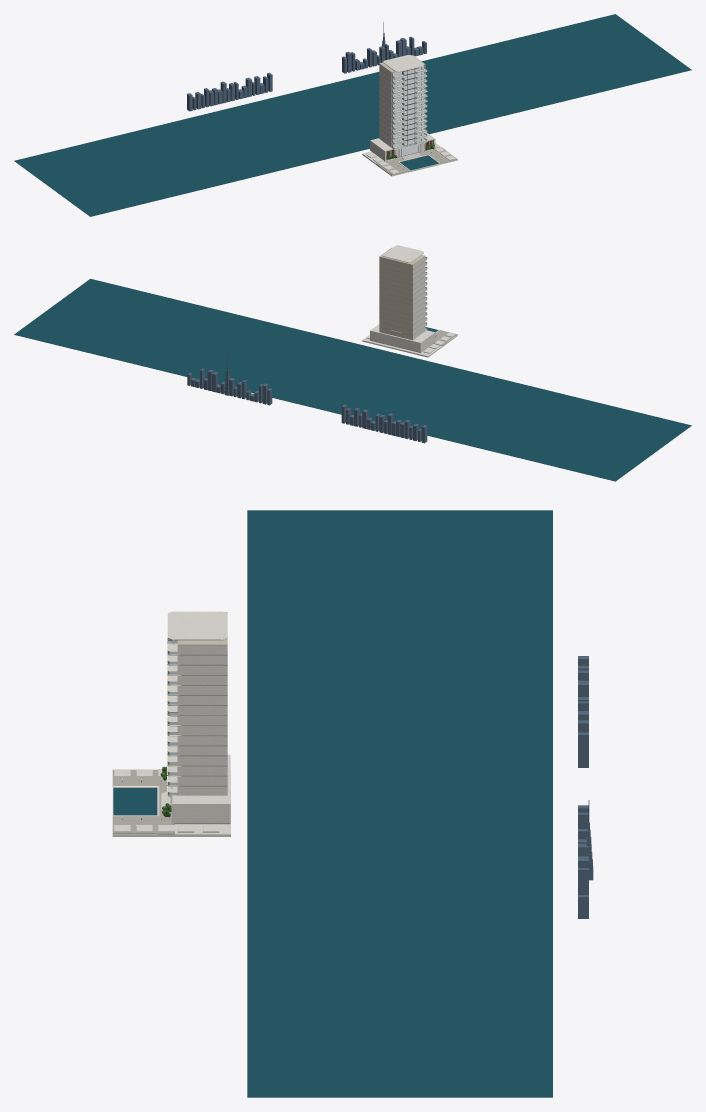
File: Waterfront_18F_optimized.glb
3 views of the same model, one above another, from view 1: azimuth 30°, elevation 25°; view 2: azimuth 150°, elevation 25°; view 3: azimuth 270°, elevation 25° (orthographic). The views are drawn at different scales.
Parts seen in each view (by area): view 1: Waterfront_water, Roof_canopy_ceiling, Pool_water_surface; view 2: Waterfront_water, podium_rear_wall, Roof_canopy_ceiling; view 3: Waterfront_water, Roof_canopy_ceiling, Pool_water_surface, podium_side_wall001.
Boxes of the visible parts, left/top/right/bottom form: Waterfront_water: left=14, top=14, right=691, bottom=216; Roof_canopy_ceiling: left=383, top=55, right=423, bottom=72; Pool_water_surface: left=400, top=155, right=438, bottom=170; Waterfront_water: left=14, top=278, right=691, bottom=481; podium_rear_wall: left=370, top=331, right=419, bottom=352; Roof_canopy_ceiling: left=383, top=245, right=423, bottom=262; Waterfront_water: left=247, top=510, right=552, bottom=1097; Roof_canopy_ceiling: left=167, top=611, right=227, bottom=640; Pool_water_surface: left=113, top=788, right=157, bottom=815; podium_side_wall001: left=174, top=804, right=230, bottom=824.
Size of the model in its own units: 500 by 71.45 by 173.
Materials: 51 (38 with a texture image).
